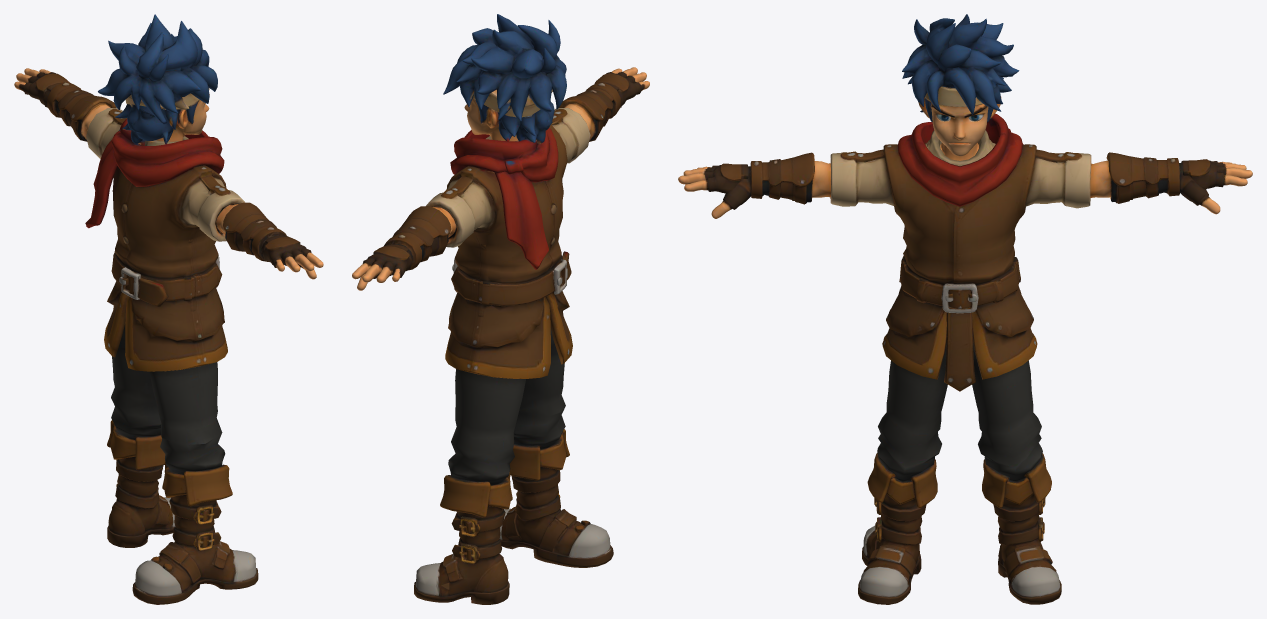
File: Warrior_V3_candidate_02.glb
3 renders of one model, left to right at view 1: azimuth 30°, elevation 25°; view 2: azimuth 150°, elevation 25°; view 3: azimuth 270°, elevation 25°, orthographic. The views are drawn at different scales.
Parts seen in each view (by area): view 1: tripo_node_9249a1ed; view 2: tripo_node_9249a1ed; view 3: tripo_node_9249a1ed.
Part boxes in pixels (x1,y1,x2,y2): tripo_node_9249a1ed: (14, 14, 323, 604); tripo_node_9249a1ed: (352, 14, 649, 604); tripo_node_9249a1ed: (678, 14, 1252, 604).
Bounding box in the file's own units: 0.2251 × 0.9995 × 0.9263.
1 material, 1 textured.
